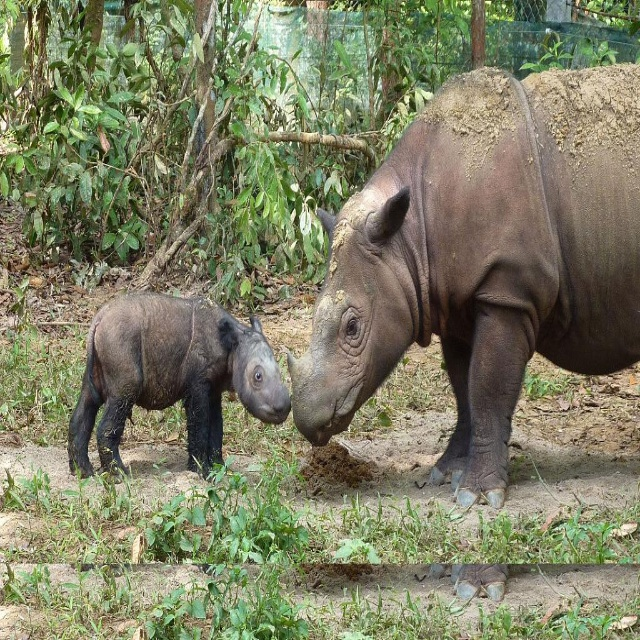Rhinoceros: (280, 58, 640, 517)
